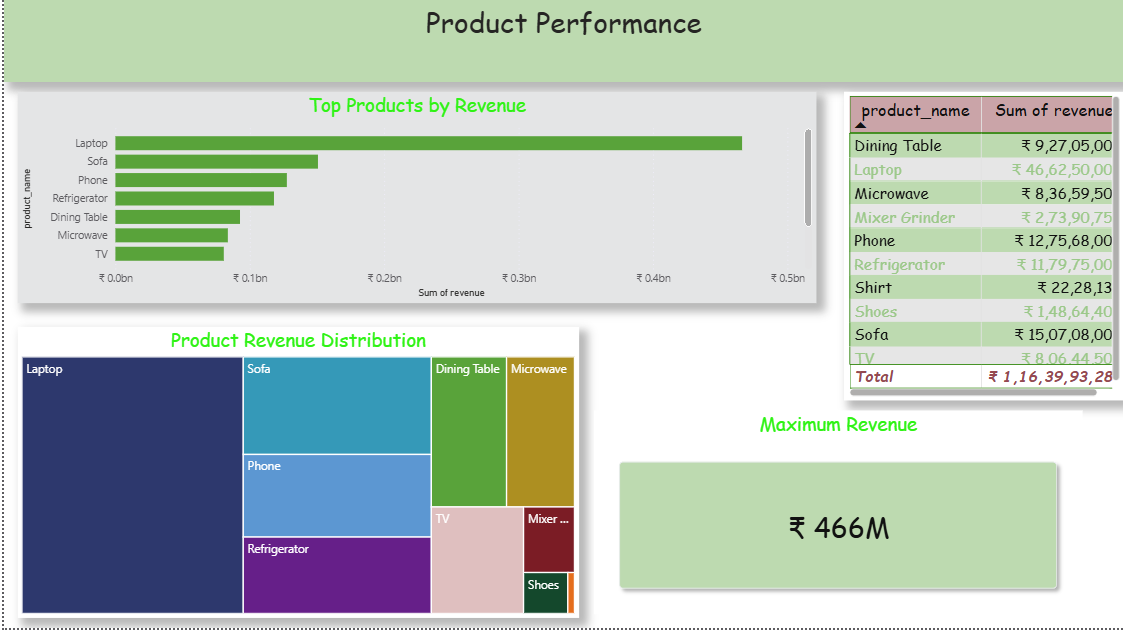

The dashboard page shown, as its layout file describes it:
{"tool":"powerbi","page":{"name":"Product Performance","canvas":[1280,720],"ordinal":2},"visuals":[{"type":"textbox","box":[0,0,1280,95.7],"z":0},{"type":"clusteredBarChart","title":"Top Products by Revenue","fields":{"Category":["top_products.product_name"],"Y":["Sum(top_products.revenue)"]},"box":[15.7,107.1,912.9,241.4],"z":1000},{"type":"treemap","title":"Product Revenue Distribution","fields":{"Group":["top_products.product_name"],"Values":["Sum(top_products.revenue)"]},"box":[15.7,375.7,641.4,332.9],"z":2000},{"type":"tableEx","fields":{"Values":["top_products.product_name","Sum(top_products.revenue)"]},"box":[960,107.1,320,352.9],"z":3000},{"type":"cardVisual","title":"Maximum Revenue","fields":{"Data":["Max(top_products.revenue)"]},"box":[674.3,471.4,558.6,232.9],"z":4000}]}

Visuals, with their boxes in screenshot pixels (x1, y1, x2, y2), scaled from the page's 1280x720 canvas onto the 1123x631 screenshot:
textbox: locate(0, 0, 1122, 84)
"Top Products by Revenue" clusteredBarChart: locate(14, 94, 815, 305)
"Product Revenue Distribution" treemap: locate(14, 329, 577, 621)
tableEx - top_products.product_name x Sum(top_products.revenue): locate(842, 94, 1122, 403)
"Maximum Revenue" cardVisual: locate(592, 413, 1082, 617)
